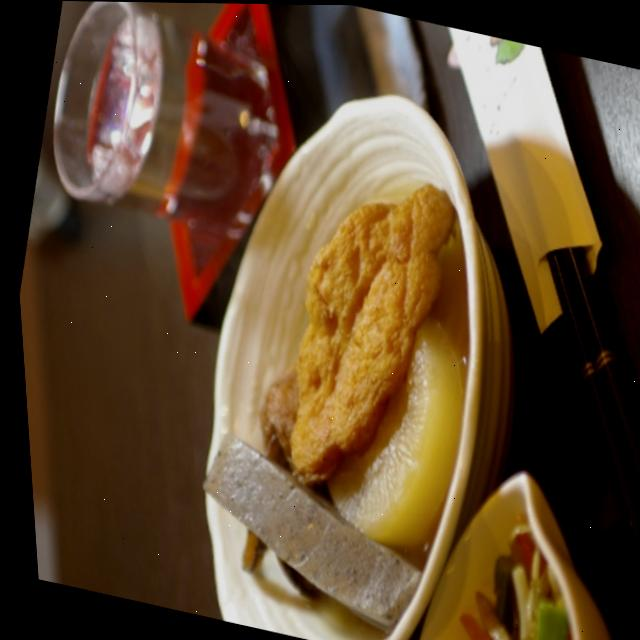汤锅炖物: (152, 135, 500, 640)
